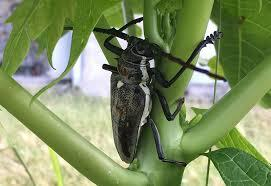insect: (36, 10, 231, 171)
